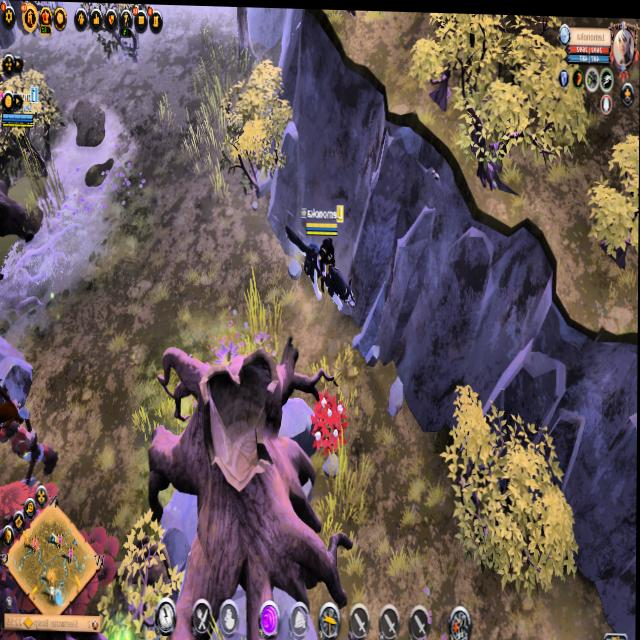fiber tier 5: (310, 385, 349, 456)
